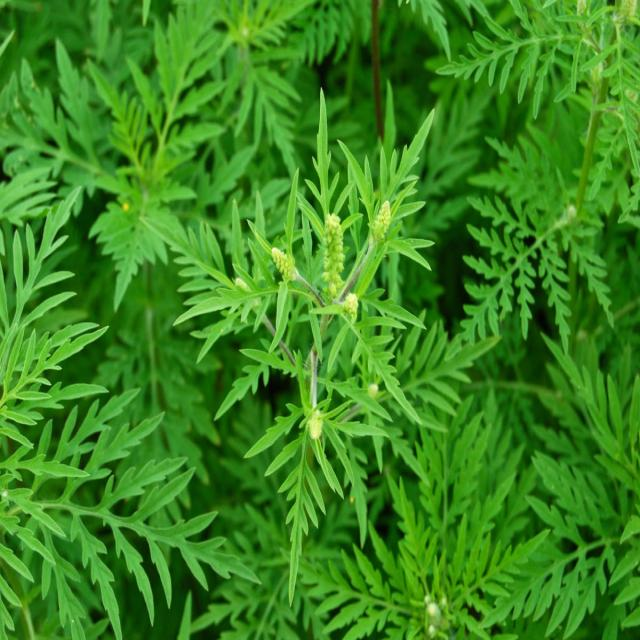ambrosia: (187, 114, 435, 515), (0, 292, 167, 638), (427, 359, 632, 640), (15, 47, 207, 281), (463, 0, 634, 211)
